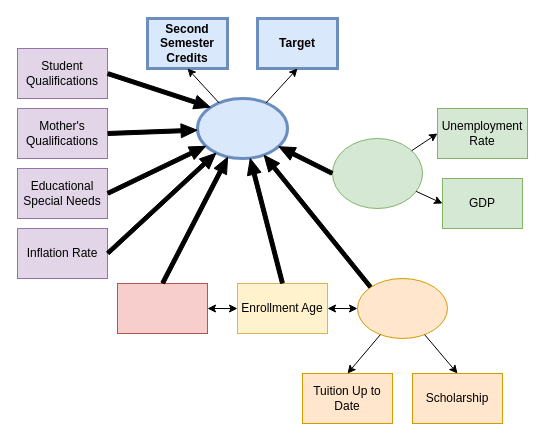
This 545x441 diagram has some shape labels left out. The shapes that lost their labels are listed below. From the top down, each one's box as (x1, y1, x2, y2) in pixels, then its label:
(196, 96, 288, 160): Enrollment
(332, 138, 422, 208): Economy
(116, 282, 208, 334): Father's Qualifications
(356, 278, 448, 338): Cost
